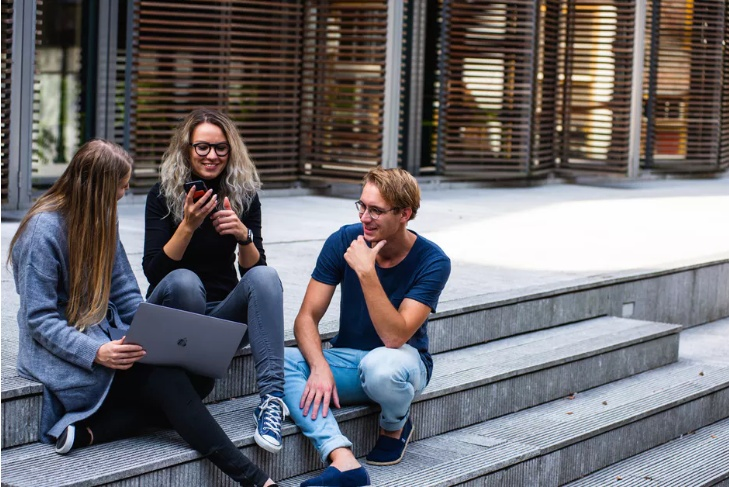face: (190, 123, 228, 178), (360, 182, 391, 241)
